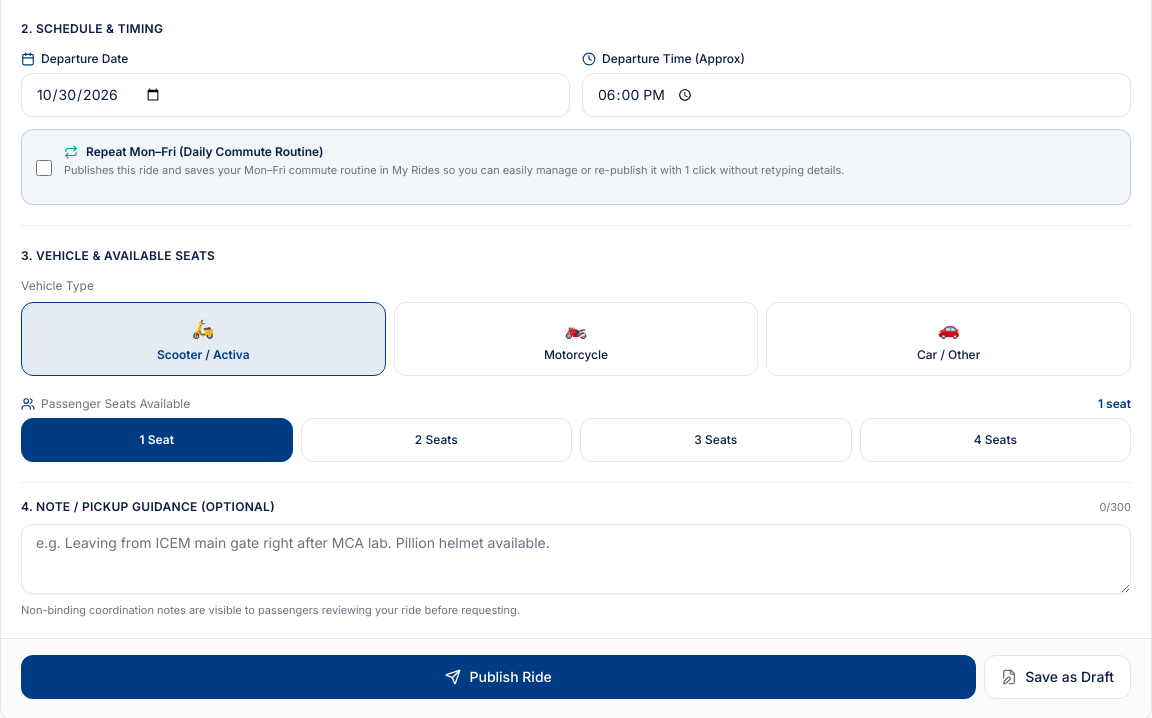
it: OfferRideForm Component (Phase 3) › displays a validation error when attempting to submit without origin or destination
This screenshot has width=1152, height=718.
(page scrolled)
Click the button "Publish Ride" at (499, 677), box [21,655,976,699]
(page scrolled)
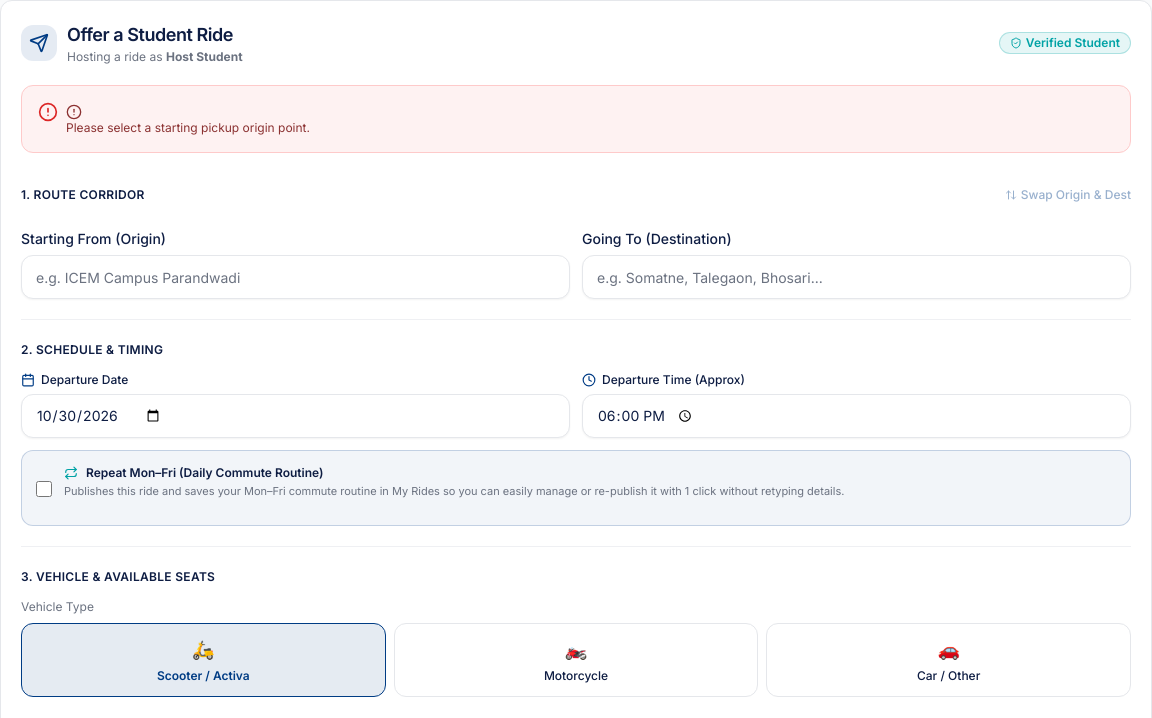
Now the text "Please select a starting pickup origin point." is shown, box [66,120,310,135]
